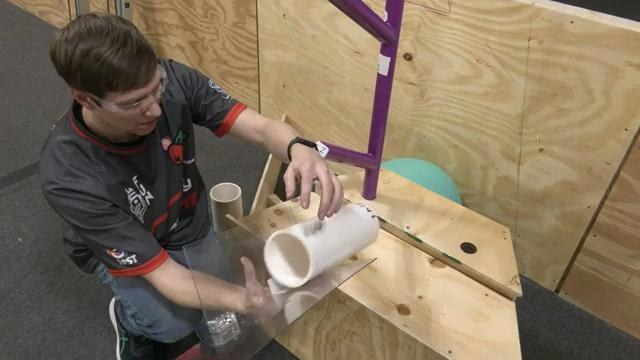CORAL: (263, 204, 380, 289), (210, 183, 244, 235)
